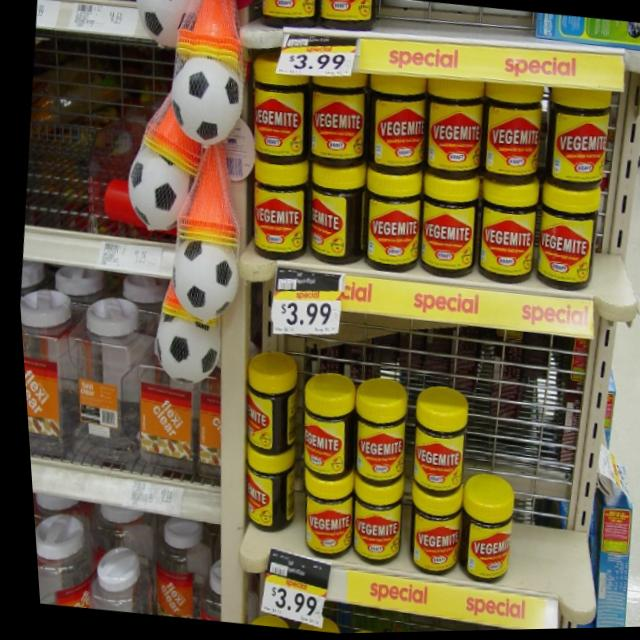q64: (393, 378, 478, 503), (468, 176, 549, 284), (233, 59, 312, 164), (294, 159, 373, 264), (447, 475, 517, 588), (527, 195, 604, 294), (238, 163, 313, 263), (544, 90, 617, 192), (361, 80, 437, 177), (289, 370, 356, 480), (475, 93, 550, 191), (412, 172, 479, 275), (359, 167, 426, 270), (421, 88, 493, 183), (343, 383, 407, 488), (286, 471, 354, 561), (391, 489, 459, 578), (306, 82, 375, 163), (342, 486, 401, 573)
